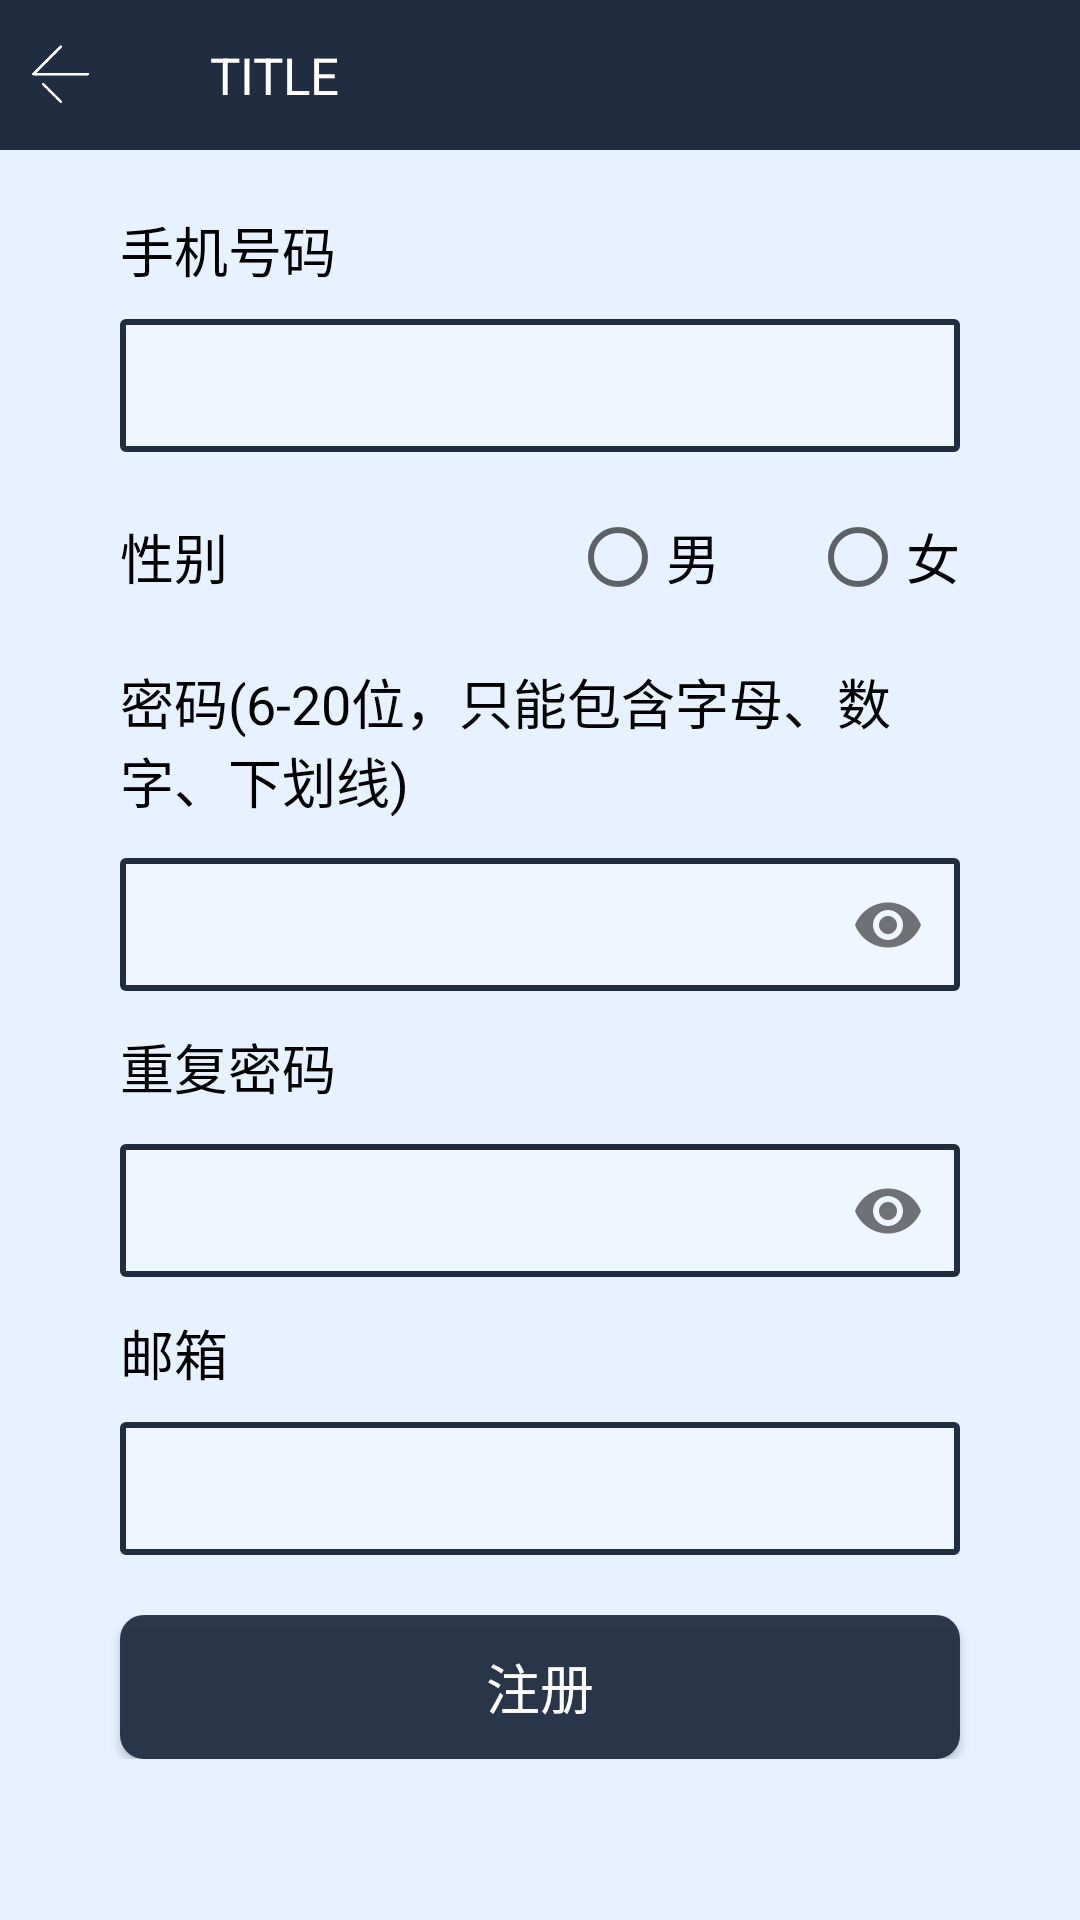

Screen size 1080x1920. Icon name, then its center in pixels as point (x, y):
back: point (60, 74)
